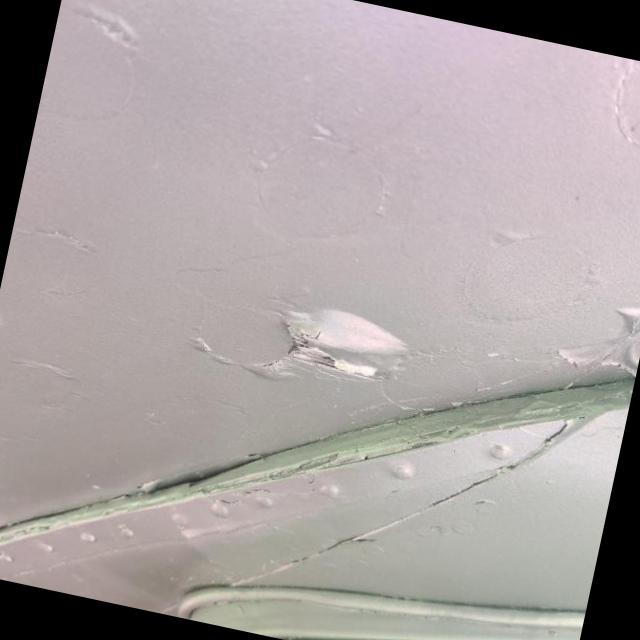Paint-off: (245, 309, 409, 380)
